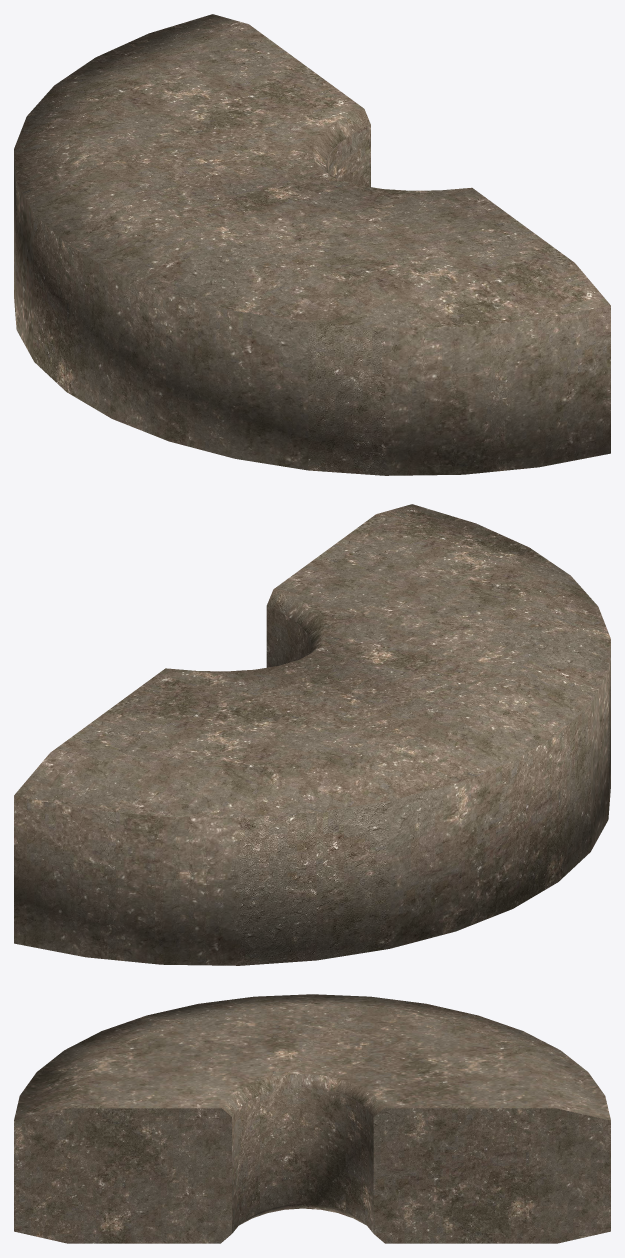
File: mdl_franch_Snake_Half.gltf
The picture shows the model from 3 angles, top to bottom: view 1: azimuth 30°, elevation 25°; view 2: azimuth 150°, elevation 25°; view 3: azimuth 270°, elevation 25°; orthographic projection. The views are drawn at different scales.
Parts seen in each view (by area): view 1: Cylinder.001; view 2: Cylinder.001; view 3: Cylinder.001.
Part boxes in pixels (box(x1,y1,x2,y2)): Cylinder.001: box(14, 14, 610, 475); Cylinder.001: box(14, 504, 610, 965); Cylinder.001: box(14, 994, 610, 1243).
Bounding box in the file's own units: 1 × 0.5002 × 2.
1 material, 1 textured.
